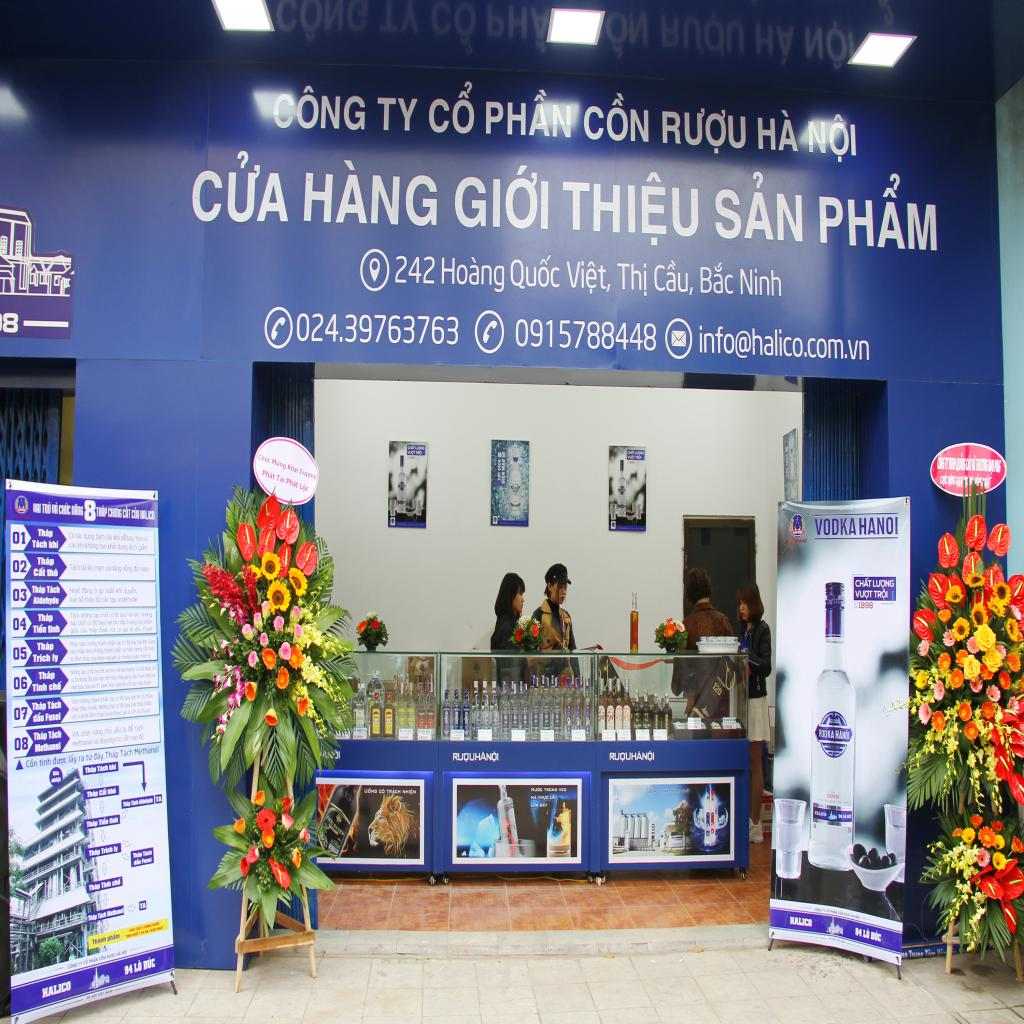text: (562, 161, 702, 258), (818, 169, 940, 254), (303, 158, 440, 232), (191, 148, 291, 229), (698, 322, 873, 366), (712, 167, 806, 248), (453, 160, 552, 234), (294, 308, 459, 346), (514, 317, 658, 354), (484, 85, 574, 144), (660, 106, 750, 158), (270, 86, 366, 134), (583, 92, 652, 149), (804, 106, 858, 168), (440, 252, 506, 295), (428, 80, 476, 139), (754, 106, 800, 154), (564, 252, 611, 295), (510, 252, 561, 290), (376, 94, 418, 137), (737, 264, 784, 299), (652, 257, 695, 295), (392, 252, 437, 288), (696, 257, 735, 297), (614, 257, 649, 301), (857, 514, 901, 537), (813, 517, 856, 538), (39, 977, 74, 1001), (608, 750, 656, 764), (452, 752, 500, 764), (11, 702, 31, 728), (787, 914, 815, 930), (11, 580, 27, 606), (32, 741, 63, 754), (11, 612, 28, 635), (11, 731, 29, 752), (10, 642, 28, 662), (84, 497, 97, 524), (117, 593, 140, 608), (11, 554, 28, 574), (299, 464, 317, 482), (11, 670, 28, 689), (31, 597, 60, 608), (70, 736, 94, 749), (36, 668, 58, 682), (140, 506, 157, 523), (10, 528, 27, 545), (30, 537, 48, 553), (260, 466, 278, 482), (43, 712, 64, 725), (134, 744, 160, 754), (272, 456, 288, 472), (30, 680, 47, 695), (35, 526, 56, 538), (106, 906, 124, 920), (285, 472, 299, 490), (854, 588, 875, 600), (35, 611, 55, 623), (58, 499, 72, 516), (285, 460, 299, 477), (71, 500, 84, 518), (89, 934, 107, 947), (818, 727, 836, 740), (35, 555, 56, 566), (32, 651, 51, 663), (48, 678, 63, 693), (107, 506, 123, 520), (30, 711, 46, 725), (32, 727, 48, 741), (95, 502, 108, 519), (48, 726, 65, 739), (257, 450, 272, 464), (143, 955, 156, 971), (31, 499, 43, 516), (32, 566, 46, 580), (86, 846, 100, 860), (86, 880, 101, 893), (274, 470, 286, 486), (711, 682, 723, 698), (955, 454, 967, 470), (35, 641, 56, 650), (873, 579, 894, 588), (32, 699, 46, 712), (85, 540, 99, 553), (38, 756, 52, 769), (297, 480, 310, 494), (364, 785, 378, 798), (976, 456, 989, 470), (32, 622, 47, 634), (99, 844, 114, 856), (133, 957, 143, 975), (854, 576, 872, 586), (122, 961, 133, 977), (45, 699, 64, 708), (48, 538, 60, 552), (47, 566, 59, 580), (47, 624, 61, 636), (106, 930, 120, 942), (870, 928, 882, 942), (31, 585, 46, 596), (98, 812, 109, 827), (874, 589, 890, 599), (858, 600, 874, 610), (935, 452, 945, 468), (85, 818, 98, 830), (82, 764, 96, 775), (43, 499, 52, 516), (132, 505, 141, 522), (402, 788, 417, 798), (842, 729, 852, 744), (112, 724, 124, 736), (53, 754, 67, 764), (49, 776, 63, 786), (988, 456, 995, 476), (47, 584, 62, 593), (141, 705, 152, 717), (558, 783, 569, 795), (96, 541, 106, 554), (68, 586, 81, 596), (24, 758, 37, 768), (104, 748, 120, 756), (834, 725, 842, 741), (994, 456, 1002, 472), (99, 736, 117, 743), (111, 562, 122, 573), (53, 499, 59, 519), (84, 530, 96, 540), (138, 541, 148, 553), (69, 562, 81, 572), (122, 562, 134, 572), (106, 786, 118, 796), (86, 912, 98, 922), (120, 800, 132, 810), (132, 857, 142, 869), (142, 856, 154, 866), (387, 786, 402, 794), (123, 504, 131, 518), (124, 586, 138, 594), (78, 728, 92, 736), (544, 786, 558, 794), (826, 792, 840, 800), (135, 722, 146, 732), (86, 790, 97, 800), (112, 876, 122, 887), (132, 849, 142, 860), (67, 960, 78, 970), (89, 955, 99, 966), (107, 950, 117, 961), (96, 763, 108, 772), (141, 626, 154, 634), (120, 748, 133, 756), (138, 732, 148, 742), (68, 754, 78, 764), (94, 750, 104, 760), (98, 788, 108, 798), (109, 814, 119, 824), (101, 879, 111, 889), (130, 798, 140, 808), (496, 450, 506, 460), (529, 785, 543, 792), (142, 533, 150, 545), (116, 544, 128, 552), (81, 610, 93, 618), (120, 654, 132, 662), (92, 728, 104, 736), (112, 844, 120, 856), (122, 946, 130, 958), (378, 786, 386, 798), (854, 926, 862, 938), (862, 928, 870, 940), (950, 456, 958, 468), (129, 544, 138, 554), (69, 595, 78, 605), (70, 626, 80, 635), (98, 910, 107, 920), (98, 953, 108, 962), (86, 638, 97, 646), (106, 654, 117, 662), (142, 849, 153, 857), (135, 624, 142, 636), (944, 456, 950, 470), (966, 454, 972, 468), (76, 530, 84, 540), (95, 530, 105, 538), (104, 532, 114, 540), (68, 540, 76, 550), (77, 540, 85, 550), (107, 542, 117, 550), (103, 562, 111, 572), (133, 564, 141, 574), (141, 565, 151, 573), (99, 610, 109, 618), (88, 626, 98, 634), (104, 710, 114, 718), (71, 728, 81, 736), (122, 734, 130, 744), (77, 753, 85, 763), (81, 957, 89, 967), (538, 802, 548, 810), (971, 456, 976, 472), (85, 596, 96, 603), (415, 444, 426, 451), (88, 564, 96, 573), (96, 564, 105, 572), (81, 587, 93, 593), (106, 586, 115, 594), (68, 610, 80, 616), (98, 638, 107, 646), (92, 649, 104, 655), (133, 646, 142, 654), (82, 655, 91, 663), (136, 705, 142, 717), (104, 725, 112, 734), (109, 763, 117, 772), (154, 794, 162, 803), (407, 449, 416, 457), (415, 451, 427, 457), (537, 794, 549, 800), (95, 595, 102, 605), (68, 619, 78, 626), (143, 618, 153, 625), (98, 627, 108, 634), (125, 647, 135, 654), (70, 697, 80, 704), (70, 705, 80, 712), (128, 722, 135, 732), (78, 676, 89, 682), (97, 704, 110, 709), (68, 530, 76, 538), (114, 532, 122, 540), (127, 534, 135, 542), (102, 596, 110, 604), (109, 627, 117, 635), (127, 626, 135, 634), (108, 638, 116, 646), (70, 647, 78, 655), (104, 646, 112, 654), (114, 646, 122, 654), (98, 654, 106, 662), (132, 654, 140, 662), (140, 654, 148, 662), (127, 665, 135, 673), (100, 682, 108, 690), (130, 694, 138, 702), (114, 708, 122, 716), (129, 708, 137, 716), (140, 900, 148, 908), (52, 653, 59, 662), (78, 619, 87, 626), (98, 619, 107, 626), (82, 712, 89, 721), (127, 619, 137, 625), (70, 668, 80, 674), (142, 680, 152, 686), (93, 735, 99, 745), (626, 454, 636, 460), (109, 596, 117, 603), (104, 619, 112, 626), (119, 619, 127, 626), (148, 646, 155, 654), (68, 655, 76, 662), (80, 666, 87, 674), (120, 666, 128, 673), (144, 666, 152, 673), (69, 713, 76, 721), (115, 735, 122, 743), (78, 596, 84, 605), (69, 640, 78, 646), (77, 649, 86, 655), (137, 673, 146, 679), (52, 770, 61, 776), (838, 813, 844, 822), (141, 612, 154, 616), (81, 697, 91, 702), (92, 697, 102, 702), (144, 700, 154, 705), (406, 444, 416, 449), (626, 451, 636, 456), (112, 618, 119, 625), (109, 666, 116, 673), (69, 676, 76, 683), (104, 674, 111, 681), (134, 534, 142, 540), (96, 587, 104, 593), (120, 610, 128, 616), (128, 610, 134, 618), (133, 612, 141, 618), (86, 619, 94, 625), (92, 619, 98, 627), (80, 626, 88, 632), (78, 640, 86, 646), (137, 638, 143, 646), (142, 638, 148, 646), (148, 638, 156, 644), (91, 654, 97, 662), (116, 654, 122, 662), (148, 654, 154, 662), (150, 665, 158, 671), (117, 673, 125, 679), (70, 684, 78, 690), (108, 682, 116, 688), (124, 694, 130, 702), (146, 694, 154, 700), (76, 713, 82, 721), (89, 712, 97, 718), (96, 712, 104, 718), (122, 710, 128, 718), (125, 708, 131, 716), (122, 724, 128, 732), (130, 735, 138, 741), (86, 752, 94, 758), (116, 950, 122, 958), (636, 454, 644, 460), (530, 794, 538, 800), (548, 794, 556, 800), (101, 697, 110, 702), (78, 958, 83, 967), (81, 564, 88, 570), (116, 587, 123, 593), (93, 612, 100, 618), (137, 619, 143, 626), (116, 626, 123, 632), (86, 649, 93, 655), (142, 646, 149, 652), (76, 655, 82, 662), (88, 667, 94, 674), (104, 667, 110, 674), (140, 666, 146, 673), (93, 674, 99, 681), (98, 676, 104, 683), (112, 674, 118, 681), (132, 674, 138, 681), (115, 682, 122, 688), (125, 682, 132, 688), (93, 586, 98, 594), (117, 638, 122, 646), (132, 638, 137, 646), (122, 646, 127, 654), (86, 669, 91, 677), (124, 673, 129, 681), (128, 673, 133, 681), (116, 694, 121, 702), (88, 705, 96, 710), (635, 451, 645, 455), (121, 534, 127, 540), (122, 626, 128, 632), (121, 640, 127, 646), (115, 667, 121, 673), (75, 676, 79, 685), (146, 673, 152, 679), (150, 673, 156, 679), (78, 684, 84, 690), (85, 684, 91, 690), (90, 684, 96, 690), (95, 684, 101, 690), (132, 680, 138, 686), (841, 813, 847, 819), (99, 667, 104, 674), (81, 705, 88, 710), (137, 701, 144, 706), (126, 638, 130, 646), (530, 802, 538, 806), (115, 610, 120, 616), (94, 669, 100, 674), (134, 666, 140, 671), (88, 676, 94, 681), (110, 696, 116, 701), (120, 694, 125, 700), (137, 692, 142, 698), (110, 704, 116, 709), (119, 701, 125, 706), (124, 704, 130, 709), (138, 682, 145, 686), (116, 704, 121, 709), (132, 701, 137, 706), (109, 612, 114, 616), (122, 682, 127, 686), (142, 694, 146, 698)
